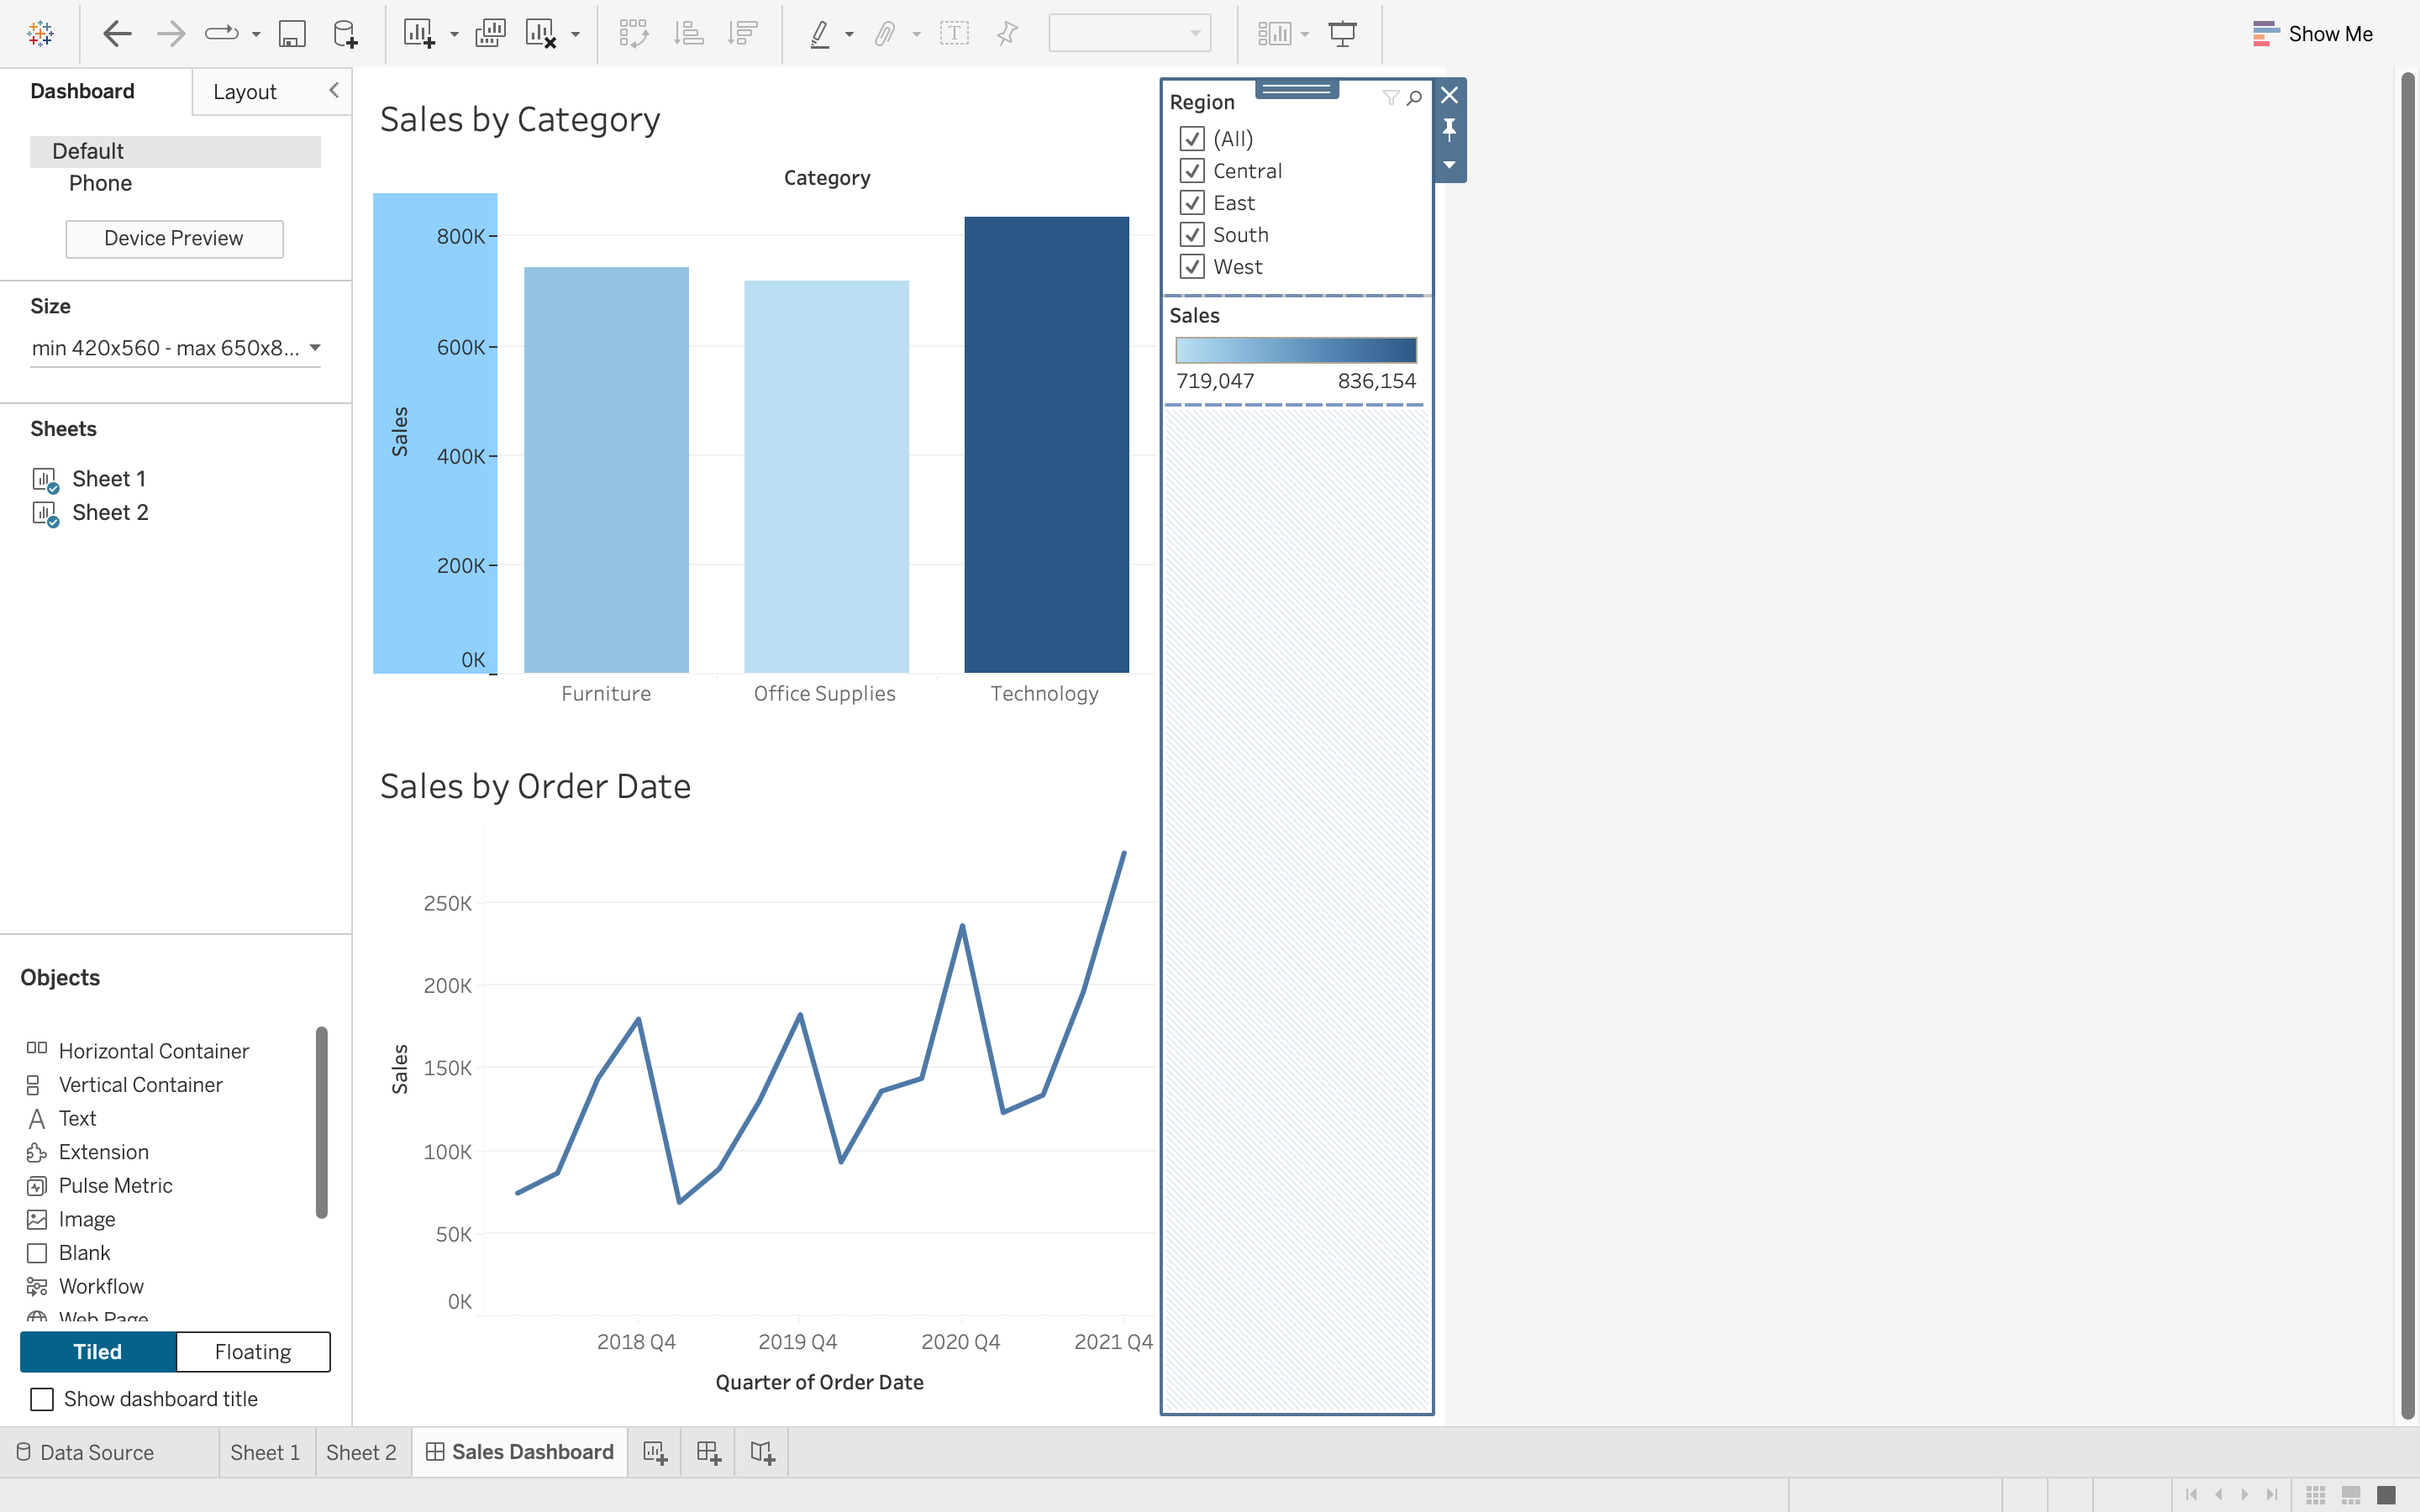

What the dashboard file says about the page in this screenshot:
{"tool":"tableau","page":{"name":"Sales Dashboard","canvas":[650,860],"ordinal":0},"visuals":[{"type":"worksheet","title":"Sheet 1","mark":"Automatic","rows":["Sales"],"cols":["Category"],"box":[9.4,12.3,443.1,417.7]},{"type":"filter","title":"Sheet 1","param":"[federated.1soqjzm1crn8zl0zlp1g10b3nuig].[none:Region:nk]","box":[452.5,12.3,188.1,195]},{"type":"legend","title":"Sheet 1","param":"[federated.1soqjzm1crn8zl0zlp1g10b3nuig].[sum:Sales:qk]","box":[452.5,207.3,188.1,99.8]},{"type":"worksheet","title":"Sheet 2","mark":"Automatic","rows":["Sales"],"cols":["Order Date"],"box":[9.4,430,443.1,417.7]}]}

Visuals, with their boxes on the page's 650x860 design canvas (x1, y1, x2, y2). These are canvas units, not pixel positions in the 2420x1512 screenshot, which may show the page scaled, cropped or inside an application window:
"Sheet 1" worksheet: 9/12/452/430
"Sheet 1" filter: 452/12/641/207
"Sheet 1" legend: 452/207/641/307
"Sheet 2" worksheet: 9/430/452/848
